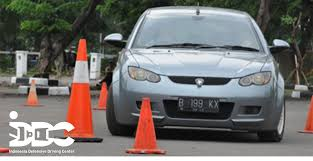car: (104, 5, 290, 135)
cone: (53, 39, 102, 144), (124, 98, 166, 154), (298, 94, 313, 135), (23, 79, 42, 108), (95, 82, 112, 111)
